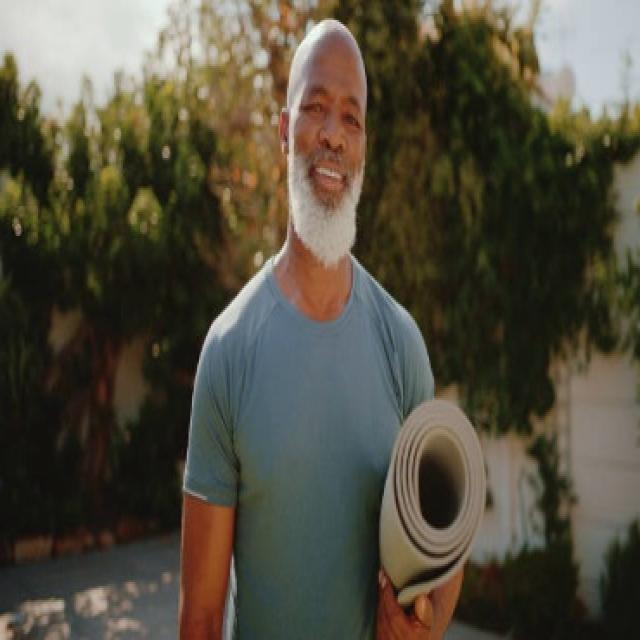adult: (177, 10, 485, 640)
